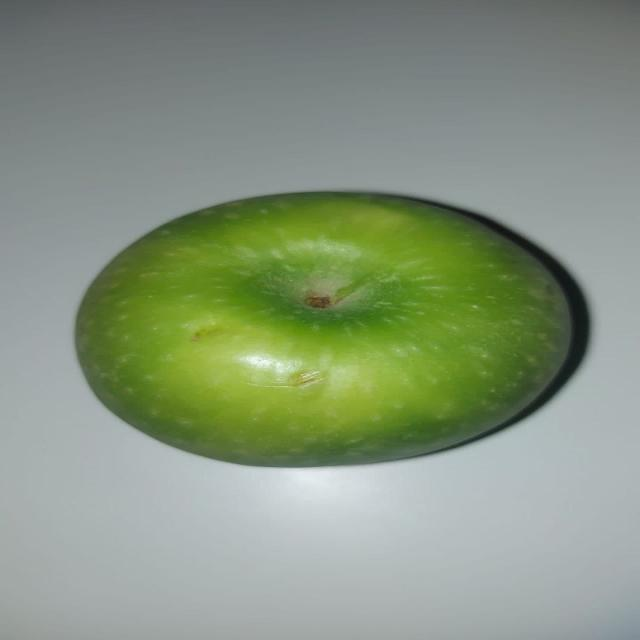fresh_apple: (73, 190, 581, 466)
